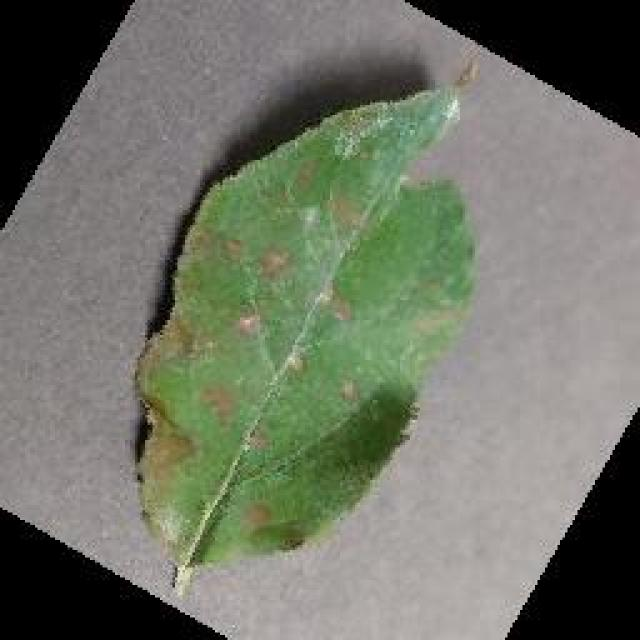apple healthy: (130, 58, 482, 598)
